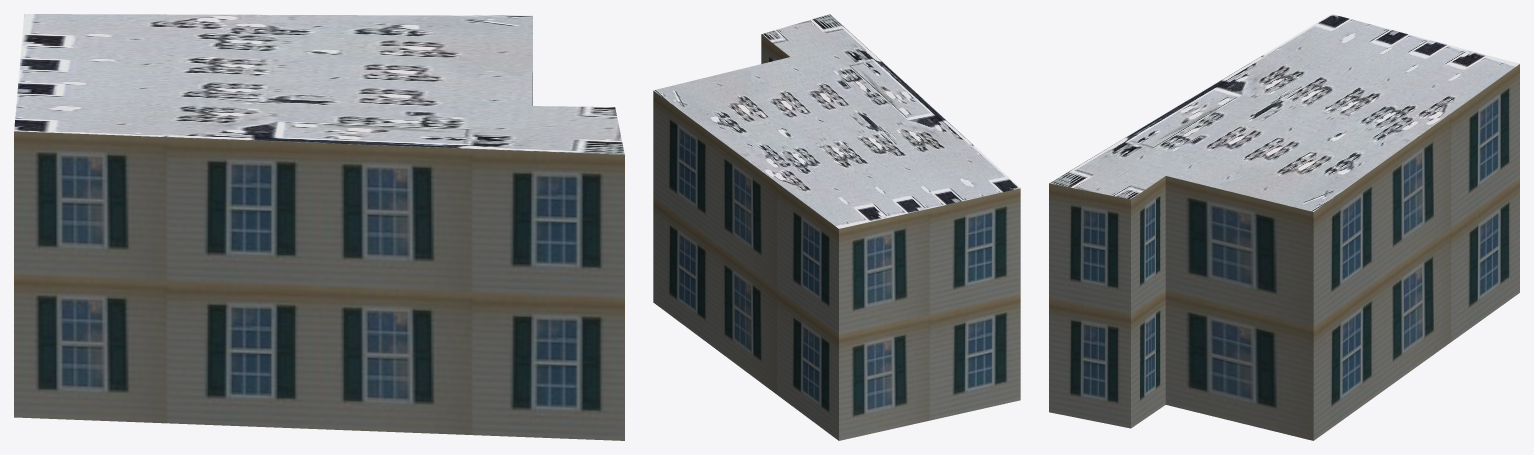
File: ResTex__749.fbx
The picture shows the model from 3 angles, left to right: view 1: azimuth 30°, elevation 25°; view 2: azimuth 150°, elevation 25°; view 3: azimuth 270°, elevation 25°; orthographic projection. The views are drawn at different scales.
Visible parts, largest first — view 1: CityEngineMaterial_7_m, CityEngineMaterial_m; view 2: CityEngineMaterial_7_m, CityEngineMaterial_m; view 3: CityEngineMaterial_7_m, CityEngineMaterial_m.
Boxes of the visible parts, x1,y1,x2,y2 form: CityEngineMaterial_7_m: (14, 73, 624, 440); CityEngineMaterial_m: (14, 14, 624, 154); CityEngineMaterial_7_m: (653, 34, 1020, 440); CityEngineMaterial_m: (653, 14, 1020, 228); CityEngineMaterial_7_m: (1049, 64, 1519, 440); CityEngineMaterial_m: (1049, 14, 1519, 211).
Bounding box in the file's own units: 11.13 × 6 × 11.19.
Materials: 2 (2 with a texture image).
